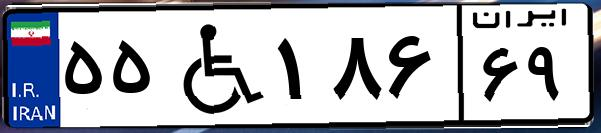1: (270, 28, 330, 110)
5: (57, 26, 110, 100), (110, 28, 158, 98)
6: (385, 28, 445, 110), (475, 38, 525, 113)
8: (330, 28, 385, 110)
9: (525, 38, 570, 115)
ژ (معلولین و جانبازان): (158, 12, 270, 120)
